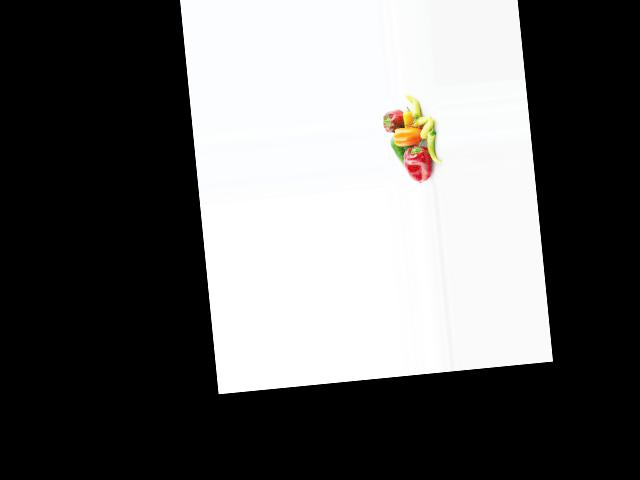bell_pepper: (425, 124, 441, 166)
